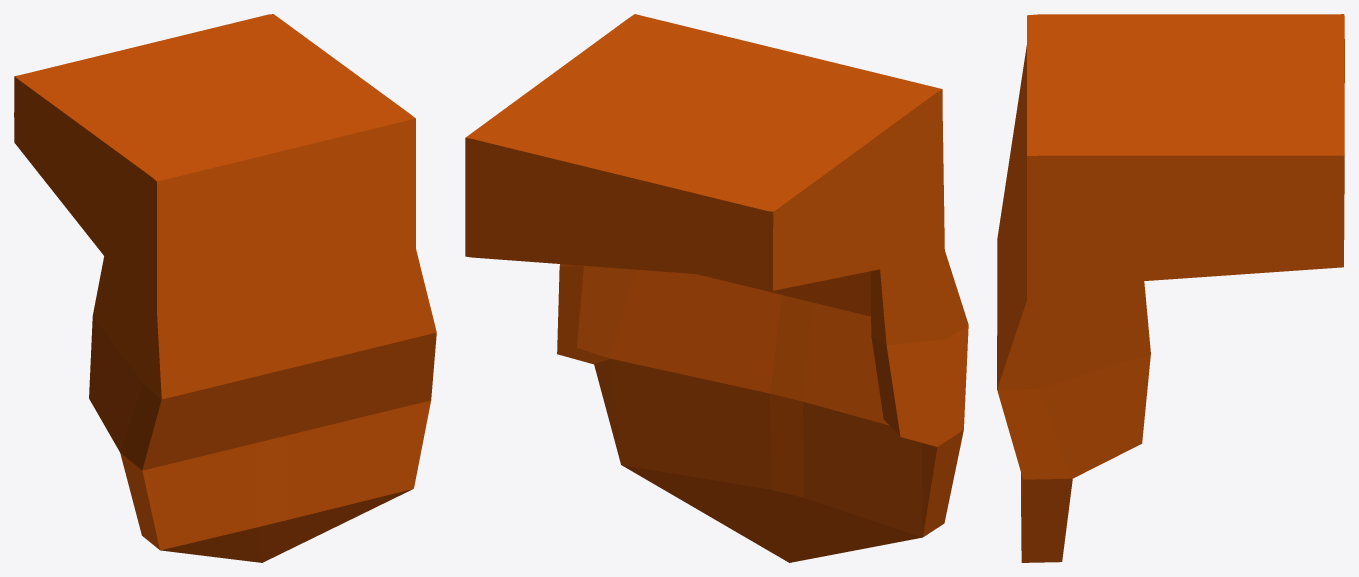
The model's file is long_hair.fbx.
3 renders of one model, left to right at view 1: azimuth 30°, elevation 25°; view 2: azimuth 150°, elevation 25°; view 3: azimuth 270°, elevation 25°, orthographic. The views are drawn at different scales.
Visible parts, largest first — view 1: Cube; view 2: Cube; view 3: Cube.
Boxes of the visible parts, x1,y1,x2,y2 form: Cube: (14,14,436,562); Cube: (465,14,968,562); Cube: (997,14,1344,562).
Bounding box in the file's own units: 0.6098 × 0.8467 × 0.571.
